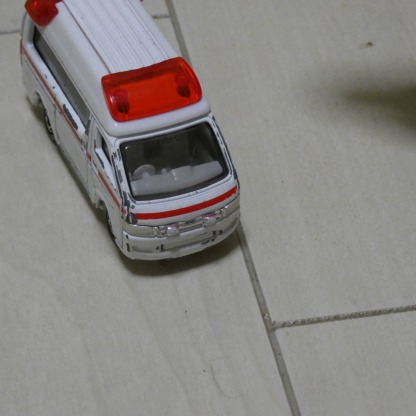car: (14, 0, 240, 265)
